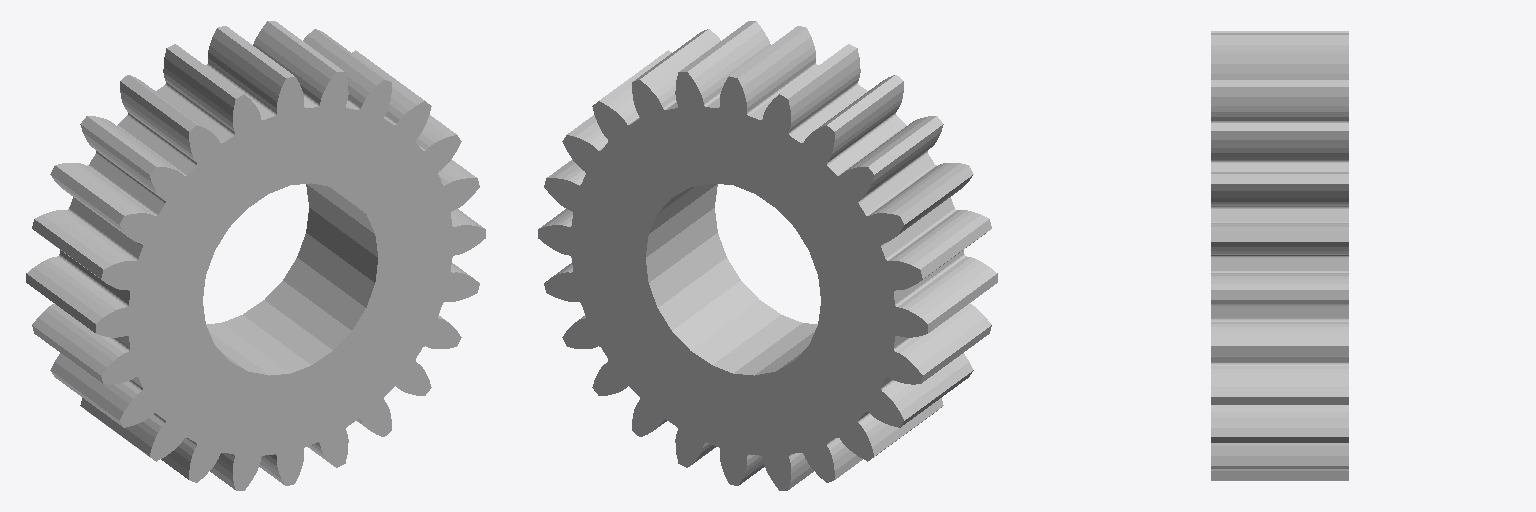
3 renders of one model, left to right at view 1: azimuth 30°, elevation 25°; view 2: azimuth 150°, elevation 25°; view 3: azimuth 270°, elevation 25°, orthographic.
Parts seen in each view (by area): view 1: engrenagem2; view 2: engrenagem2; view 3: engrenagem2.
Part boxes in pixels (x1,y1,x2,y2): engrenagem2: (26, 21, 485, 490); engrenagem2: (538, 21, 997, 490); engrenagem2: (1211, 31, 1348, 480).
Bounding box in the file's own units: 260 × 260 × 80.